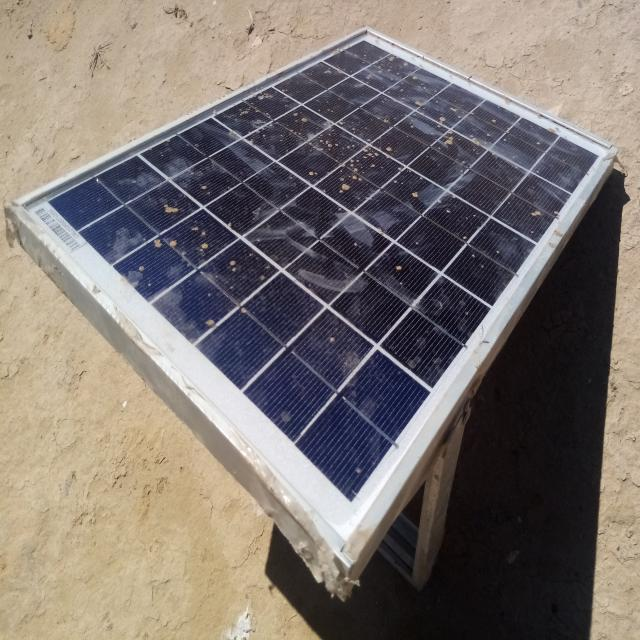faulty: (11, 31, 611, 566)
